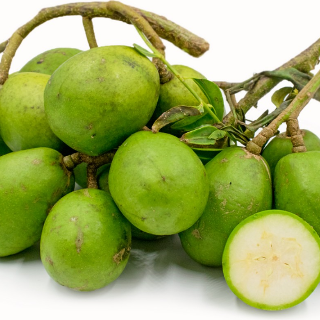coc: (42, 44, 161, 156), (108, 130, 208, 235), (225, 210, 319, 310), (43, 188, 129, 290)
